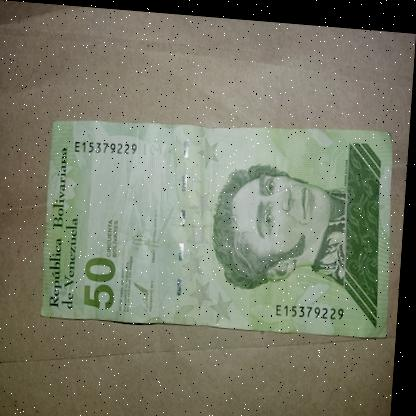fifty-front-vef: (44, 102, 402, 338)
